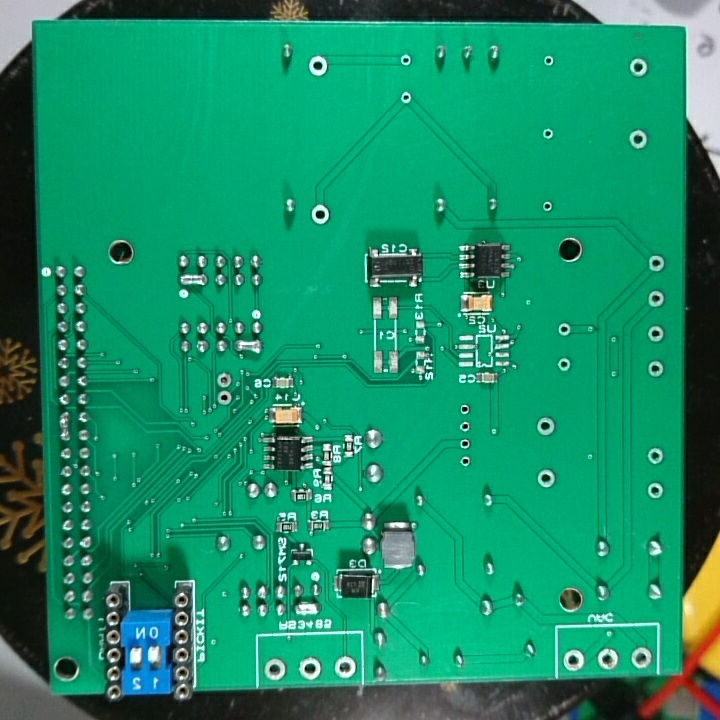F: (308, 199, 335, 231), (628, 642, 655, 672), (595, 645, 623, 673), (560, 647, 589, 674), (333, 653, 361, 680), (627, 127, 652, 155), (297, 654, 323, 680), (306, 54, 333, 79), (535, 467, 560, 493), (644, 252, 671, 276), (644, 445, 671, 469), (647, 319, 669, 348), (263, 656, 289, 680), (626, 55, 652, 78), (646, 287, 671, 310), (535, 413, 558, 437), (646, 358, 666, 384), (397, 85, 418, 109), (644, 478, 665, 502), (454, 432, 478, 453), (396, 50, 416, 72), (555, 320, 575, 341), (214, 370, 236, 389), (555, 356, 576, 375), (455, 417, 476, 436), (457, 451, 476, 472), (215, 390, 236, 409), (541, 49, 558, 72), (540, 197, 558, 217), (456, 399, 474, 418), (541, 124, 557, 142)
P: (56, 407, 73, 445), (177, 270, 209, 289), (233, 338, 265, 356), (293, 599, 322, 618)
